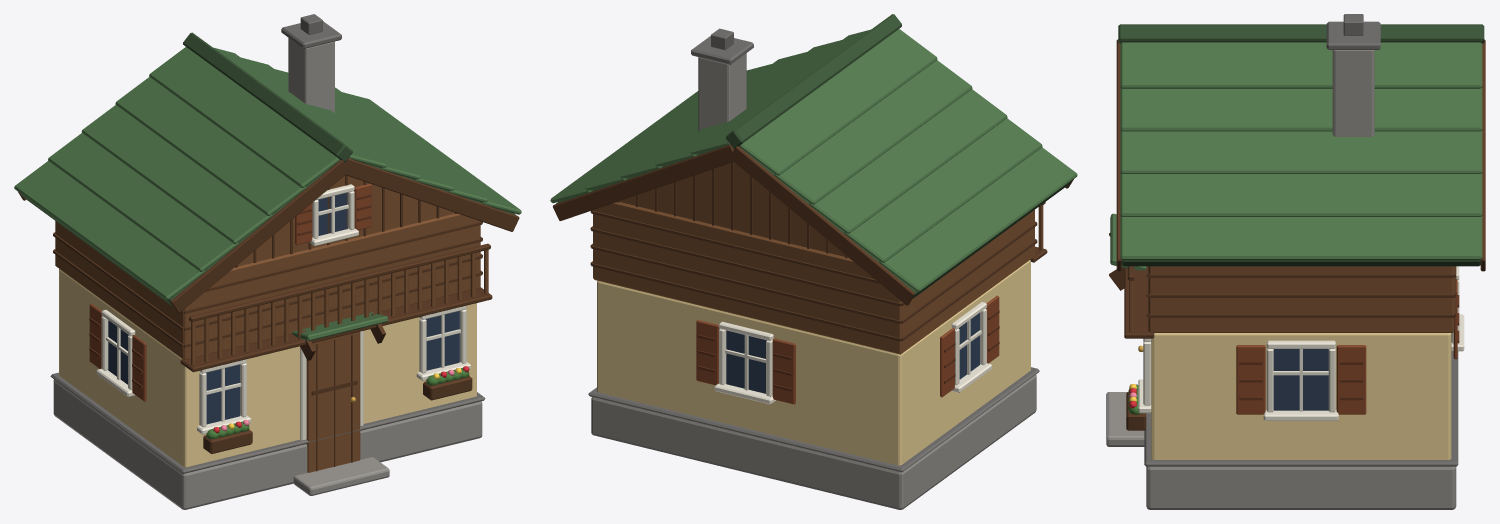
File: house_2.glb
3 renders of one model, left to right at view 1: azimuth 30°, elevation 25°; view 2: azimuth 150°, elevation 25°; view 3: azimuth 270°, elevation 25°, orthographic. The views are drawn at different scales.
Visible parts, largest first — view 1: House2; view 2: House2; view 3: House2.
Boxes of the visible parts, x1,y1,x2,y2 form: House2: [14, 14, 521, 509]; House2: [550, 14, 1077, 509]; House2: [1106, 14, 1485, 509].
Bounding box in the file's own units: 4.86 × 4.91 × 3.8.
